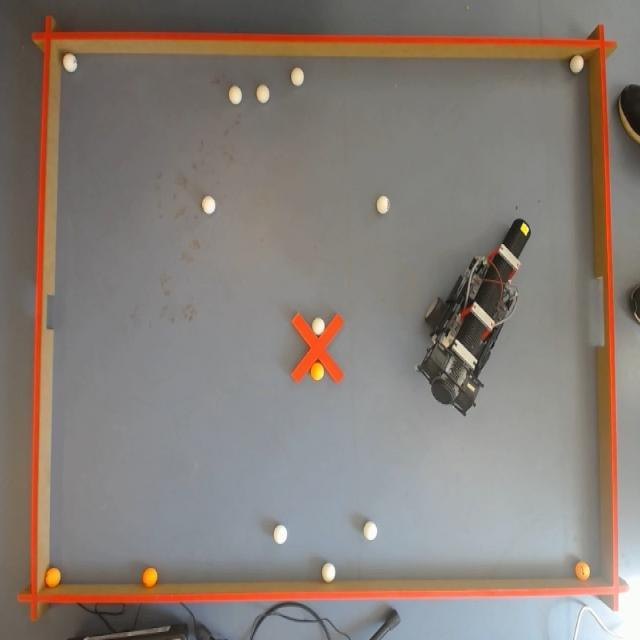orange: (141, 566, 158, 592), (576, 564, 592, 582), (49, 569, 64, 588), (310, 359, 322, 382)
robot: (424, 214, 520, 411)
white: (570, 54, 586, 74), (228, 84, 242, 105), (272, 523, 286, 543), (257, 84, 270, 105), (322, 563, 334, 585), (376, 196, 389, 216), (364, 520, 377, 540), (292, 66, 304, 87), (62, 54, 76, 72), (202, 196, 214, 216), (312, 315, 322, 333)
